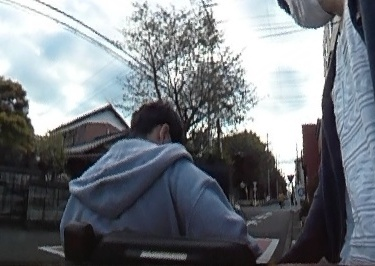person: (68, 100, 241, 261)
